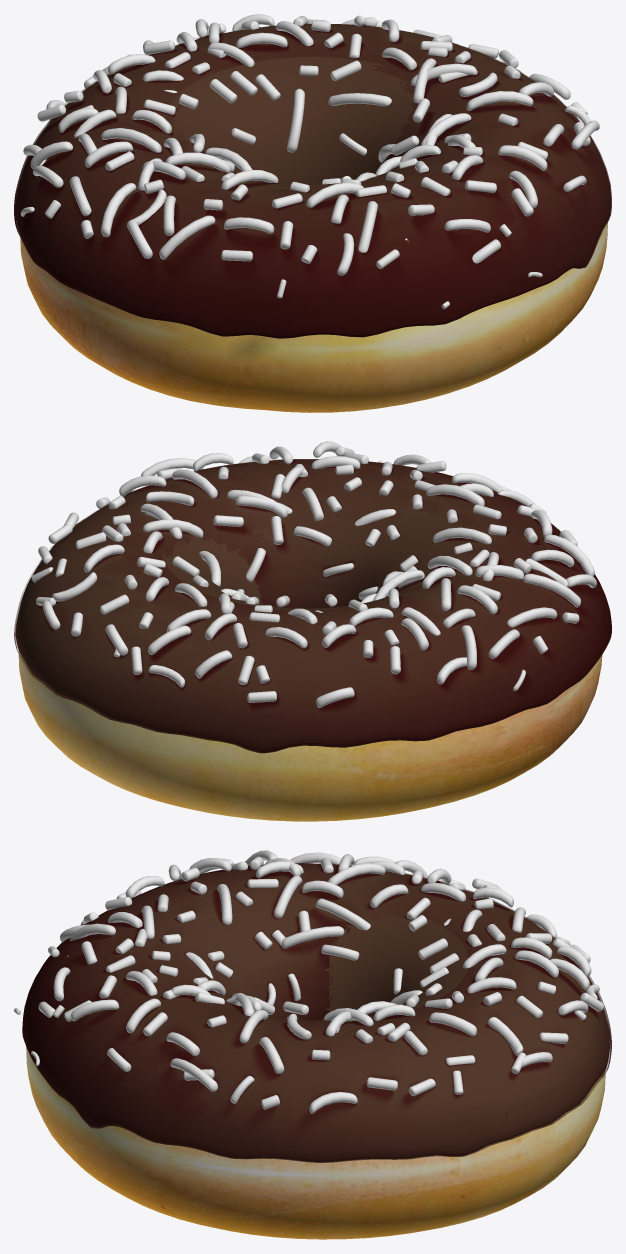
Rendered from dark white vermicheli.glb.
3 views of the same model, one above another, from view 1: azimuth 30°, elevation 25°; view 2: azimuth 150°, elevation 25°; view 3: azimuth 270°, elevation 25° (orthographic). The views are drawn at different scales.
Parts seen in each view (by area): view 1: dark, coffee.001, blue.002, Torus; view 2: dark, coffee.001, blue.002, Torus; view 3: dark, coffee.001, Torus, blue.002.
Boxes of the visible parts, left/top/right/bottom form: dark: left=16, top=24, right=611, bottom=338; coffee.001: left=14, top=22, right=611, bottom=338; blue.002: left=20, top=14, right=599, bottom=309; Torus: left=20, top=222, right=607, bottom=412; dark: left=15, top=459, right=605, bottom=752; coffee.001: left=14, top=459, right=611, bottom=753; blue.002: left=31, top=441, right=596, bottom=707; Torus: left=18, top=650, right=602, bottom=821; dark: left=24, top=863, right=609, bottom=1162; coffee.001: left=22, top=863, right=611, bottom=1162; Torus: left=26, top=1046, right=605, bottom=1239; blue.002: left=14, top=850, right=603, bottom=1113.
Bounding box in the file's own units: 0.1996 × 0.0773 × 0.2006.
Materials: 4 (2 with a texture image).
